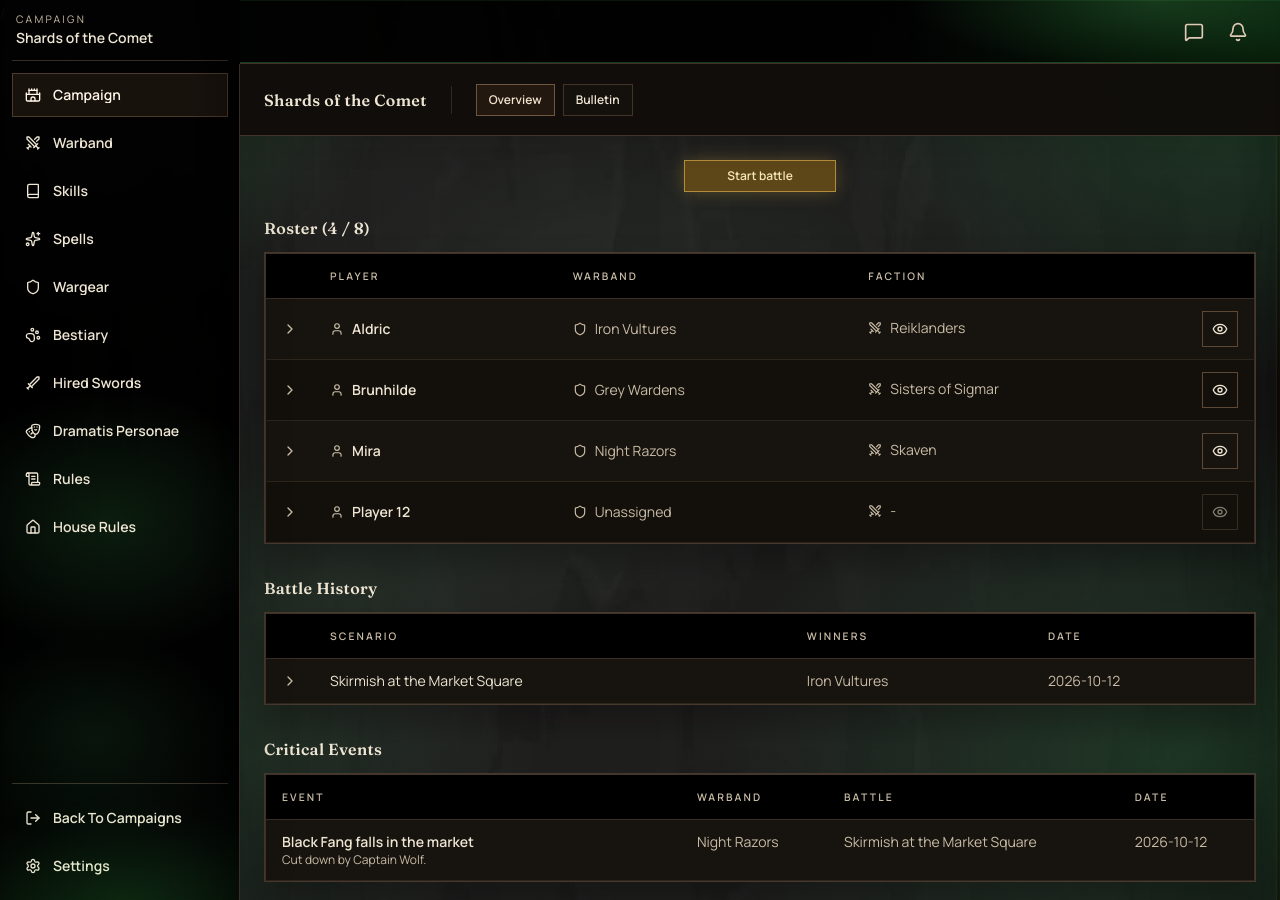
Test case: CampaignOverview roster semantics › expands a player from a real button that says whether it's open, with View warband a link beside it, not inside it (CAMP-UX-07)
The width and height of the screenshot is (1280, 900).
Expected: the heading "Roster (4 / 8)" is shown, [264, 218, 370, 238]
Expected: the button "Aldric" is shown, [330, 319, 390, 339]
Click the button "Mira": (355, 451) [330, 441, 381, 461]
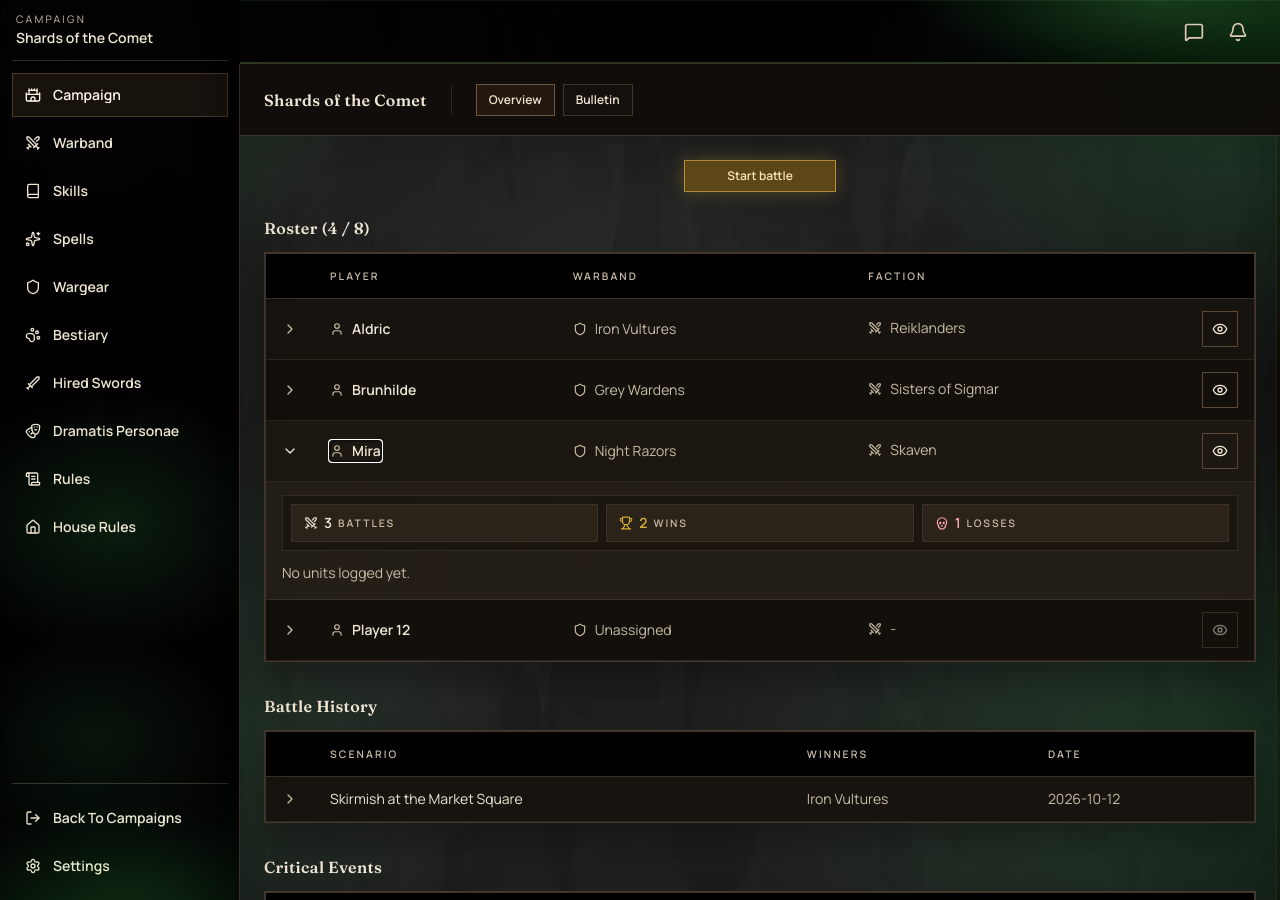
Expected: the text "No units logged yet." is shown, [282, 563, 410, 582]
